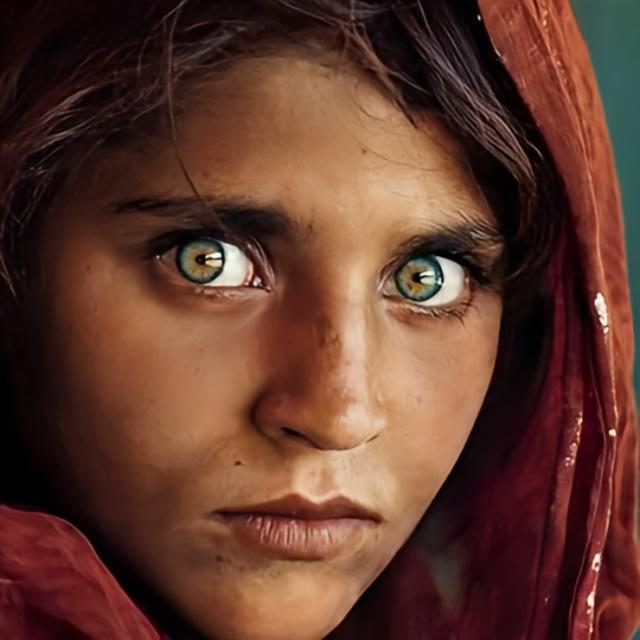anger: (39, 21, 510, 640)
